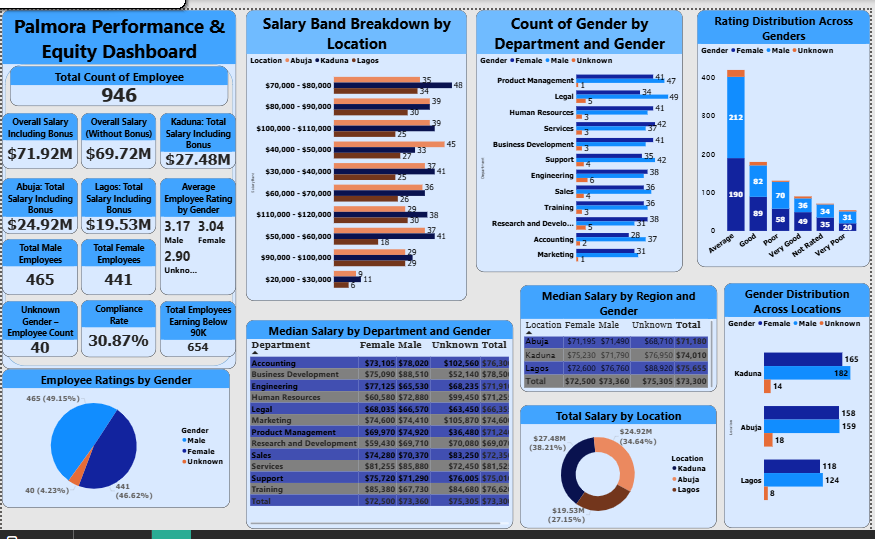

This screenshot's page, from the dashboard's own definition file:
{"tool":"powerbi","page":{"name":"Page 6","canvas":[3100,1900],"ordinal":0},"visuals":[{"type":"shape","title":"Palmora Performance & Equity Dashboard","box":[0,0,835.7,1282.1],"z":0},{"type":"multiRowCard","title":"Average Employee Rating by Gender","fields":{"Values":["Palmoria Group emp-data.AvgRating_Male","Palmoria Group emp-data.AvgRating_Female","Palmoria Group emp-data.AvgRating_Unknown"]},"box":[564.3,600,271.4,417.9],"z":1000},{"type":"card","title":"Total Female Employees","fields":{"Values":["Palmoria Group emp-data.Gender"]},"box":[282.1,817.9,267.9,200],"z":2000},{"type":"card","title":"Total Male Employees","fields":{"Values":["Palmoria Group emp-data.Gender"]},"box":[0,817.9,271.4,200],"z":3000},{"type":"card","title":"Overall Salary Including Bonus","fields":{"Values":["Palmoria Group emp-data.Total_Salary"]},"box":[0,367.9,271.4,200],"z":4000},{"type":"card","title":"Overall Salary (Without Bonus)","fields":{"Values":["Palmoria Group emp-data.Salary"]},"box":[282.1,367.9,267.9,200],"z":5000},{"type":"card","title":"Unknown Gender – Employee Count","fields":{"Values":["Palmoria Group emp-data.Gender"]},"box":[0,1039.3,271.4,200],"z":6000},{"type":"card","title":"Abuja: Total Salary Including Bonus","fields":{"Values":["Palmoria Group emp-data.Total_Salary"]},"box":[0,600,271.4,200],"z":7000},{"type":"card","title":"Kaduna: Total Salary Including Bonus","fields":{"Values":["Palmoria Group emp-data.Total_Salary"]},"box":[564.3,367.9,271.4,200],"z":8000},{"type":"card","title":"Lagos: Total Salary Including Bonus","fields":{"Values":["Palmoria Group emp-data.Total_Salary"]},"box":[282.1,600,267.9,200],"z":9000},{"type":"card","title":"Compliance Rate","fields":{"Values":["Palmoria Group emp-data.ComplianceRate"]},"box":[282.1,1035.7,267.9,203.6],"z":10000},{"type":"card","title":"Total Employees Earning Below 90K","fields":{"Values":["Palmoria Group emp-data.Below_Minimum"]},"box":[564.3,1039.3,271.4,200],"z":12000},{"type":"pieChart","title":"Employee Ratings by Gender","fields":{"Y":["Palmoria Group emp-data.Rating"],"Category":["Palmoria Group emp-data.Gender"]},"box":[0,1282.1,814.3,496.4],"z":13000},{"type":"card","title":"Total Count of Employee","fields":{"Values":["Palmoria Group emp-data.Gender"]},"box":[28.6,200,778.6,142.9],"z":14000},{"type":"clusteredBarChart","title":"Salary Band Breakdown by Location","fields":{"Category":["Palmoria Group emp-data.SalaryBand"],"Series":["Palmoria Group emp-data.Location"],"Y":["Palmoria Group emp-data.Name"]},"box":[871.4,0,789.3,1039.3],"z":15000},{"type":"clusteredBarChart","fields":{"Category":["Palmoria Group emp-data.Department"],"Y":["Palmoria Group emp-data.Gender"],"Series":["Palmoria Group emp-data.Gender"]},"box":[1693.3,0,737.7,936.5],"z":16000},{"type":"pivotTable","title":"Median Salary by Department  and Gender ","fields":{"Rows":["Palmoria Group emp-data.Department"],"Columns":["Palmoria Group emp-data.Gender"],"Values":["Palmoria Group emp-data.Median Salary"]},"box":[871.4,1107.1,953.6,746.4],"z":17000},{"type":"columnChart","title":"Rating Distribution Across Genders","fields":{"Category":["Palmoria Group emp-data.Rating"],"Y":["Palmoria Group emp-data.Rating"],"Series":["Palmoria Group emp-data.Gender"]},"box":[2482.1,0,617.9,917.9],"z":18000},{"type":"pivotTable","title":"Median Salary by Region  and Gender ","fields":{"Rows":["Palmoria Group emp-data.Location"],"Columns":["Palmoria Group emp-data.Gender"],"Values":["Palmoria Group emp-data.Median Salary"]},"box":[1850,982.1,703.6,382.1],"z":19000},{"type":"donutChart","title":"Total Salary by Location","fields":{"Y":["Palmoria Group emp-data.Total_Salary"],"Category":["Palmoria Group emp-data.Location"]},"box":[1849,1412.3,702.5,440.4],"z":20000},{"type":"clusteredBarChart","title":"Gender Distribution Across Locations","fields":{"Category":["Palmoria Group emp-data.Location"],"Y":["Palmoria Group emp-data.Gender"],"Series":["Palmoria Group emp-data.Gender"]},"box":[2578.6,975,521.4,875],"z":21000}]}

Visuals, with their boxes in screenshot pixels (x1, y1, x2, y2), scaled from the page's 3100x1900 canvas onto the 875x539 screenshot:
"Palmora Performance & Equity Dashboard" shape: box(0, 0, 236, 364)
"Average Employee Rating by Gender" multiRowCard: box(159, 170, 236, 289)
"Total Female Employees" card: box(80, 232, 155, 289)
"Total Male Employees" card: box(0, 232, 77, 289)
"Overall Salary Including Bonus" card: box(0, 104, 77, 161)
"Overall Salary (Without Bonus)" card: box(80, 104, 155, 161)
"Unknown Gender – Employee Count" card: box(0, 295, 77, 352)
"Abuja: Total Salary Including Bonus" card: box(0, 170, 77, 227)
"Kaduna: Total Salary Including Bonus" card: box(159, 104, 236, 161)
"Lagos: Total Salary Including Bonus" card: box(80, 170, 155, 227)
"Compliance Rate" card: box(80, 294, 155, 352)
"Total Employees Earning Below 90K" card: box(159, 295, 236, 352)
"Employee Ratings by Gender" pieChart: box(0, 364, 230, 505)
"Total Count of Employee" card: box(8, 57, 228, 97)
"Salary Band Breakdown by Location" clusteredBarChart: box(246, 0, 469, 295)
clusteredBarChart - Palmoria Group emp-data.Department x Palmoria Group emp-data.Gender: box(478, 0, 686, 266)
"Median Salary by Department  and Gender " pivotTable: box(246, 314, 515, 526)
"Rating Distribution Across Genders" columnChart: box(701, 0, 874, 260)
"Median Salary by Region  and Gender " pivotTable: box(522, 279, 721, 387)
"Total Salary by Location" donutChart: box(522, 401, 720, 526)
"Gender Distribution Across Locations" clusteredBarChart: box(728, 277, 874, 525)
